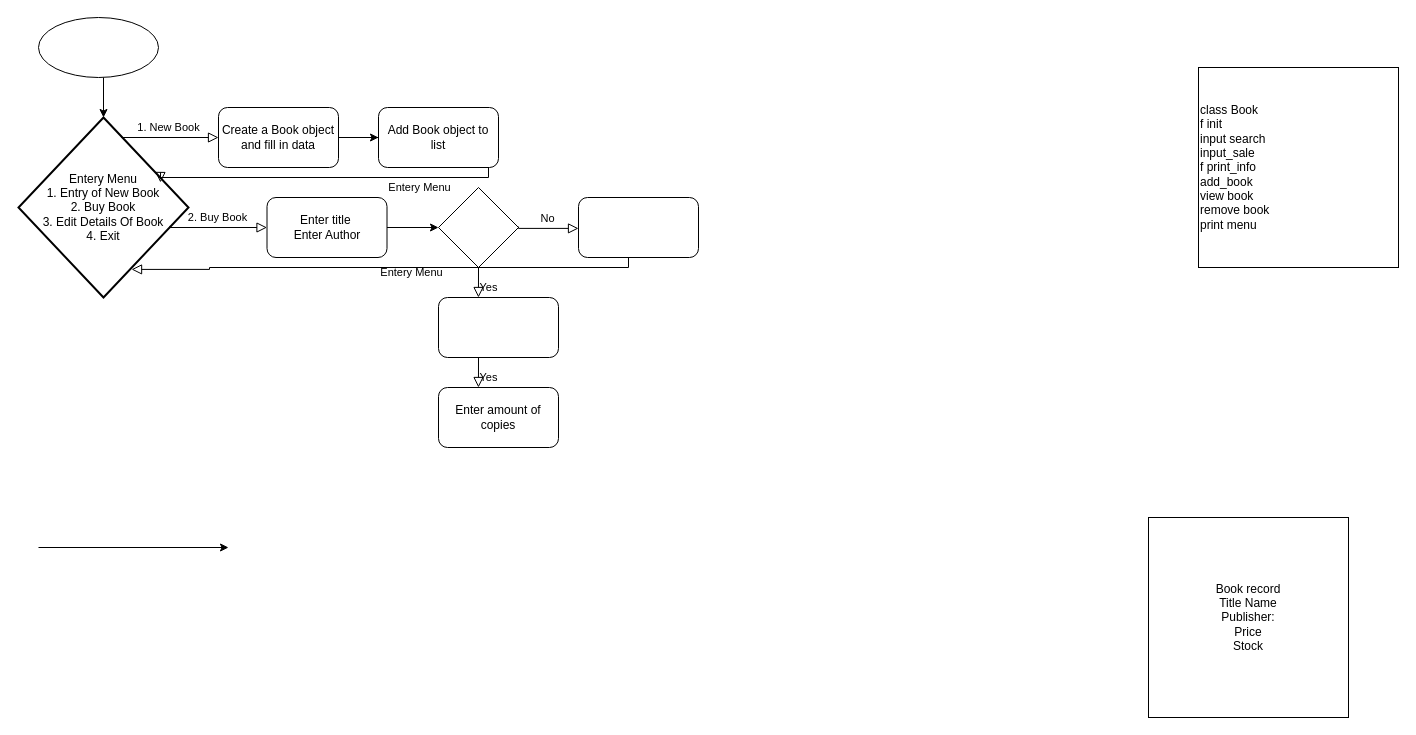
This 1416x735 diagram has some shape labels left out. The shapes that lost their labels are listed below. From the top down, each one's centre as x and y in pixels, then its label:
pixel 98 47: Input Menu for the Book Shop
pixel 478 227: Is Book Object available ?
pixel 638 227: Display: Book Object is not available.
pixel 498 327: Book Object displayed
